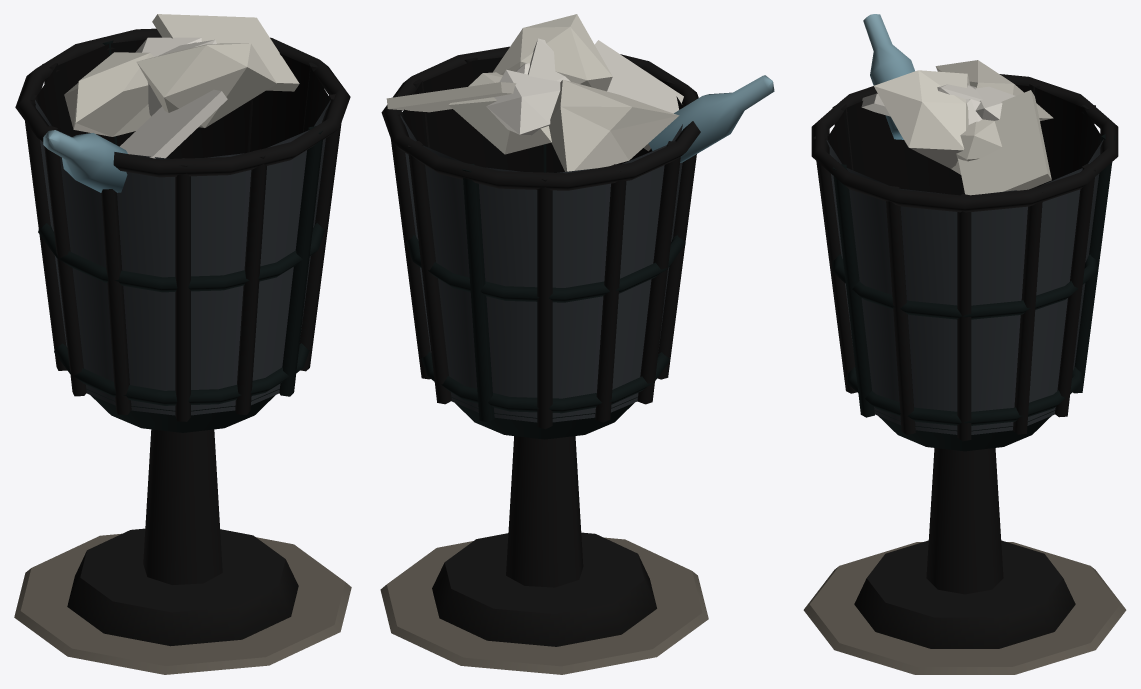
Rendered from platform-litter-bin.glb.
The picture shows the model from 3 angles, left to right: view 1: azimuth 30°, elevation 25°; view 2: azimuth 150°, elevation 25°; view 3: azimuth 270°, elevation 25°; orthographic projection. The views are drawn at different scales.
Visible parts, largest first — view 1: platform_litter_bin; view 2: platform_litter_bin; view 3: platform_litter_bin.
Part boxes in pixels (x1,y1,x2,y2): platform_litter_bin: (14, 14, 351, 674); platform_litter_bin: (380, 14, 774, 674); platform_litter_bin: (803, 14, 1126, 674).
Size of the model in its own units: 0.6938 by 1.15 by 0.624.
